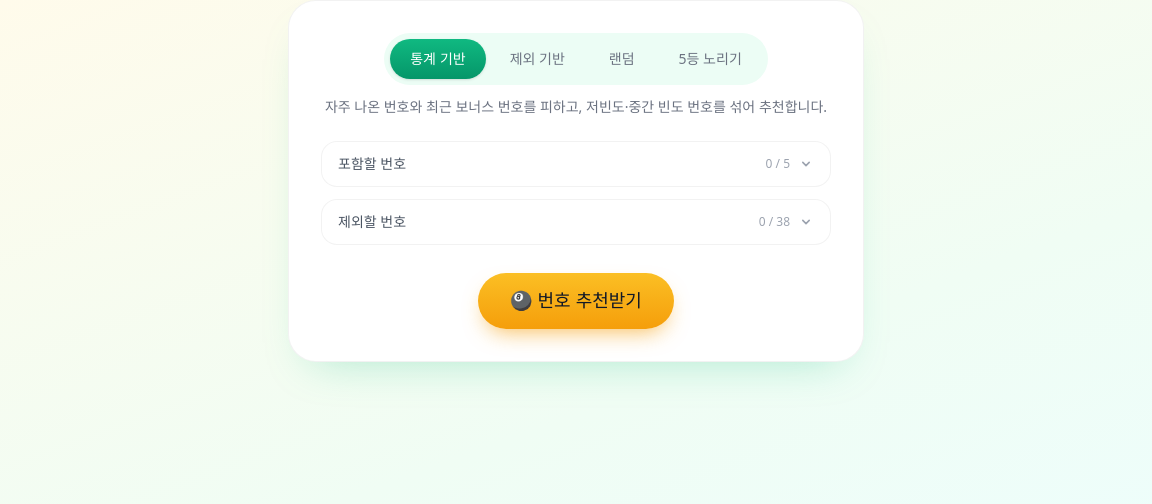
Test: RecommenderClient › 5등 노리기 (target5) › caps the exclude picker at 15 in target5 mode
Click the button "5등 노리기" at coordinates (710, 59), box left=659, top=39, right=762, bottom=79
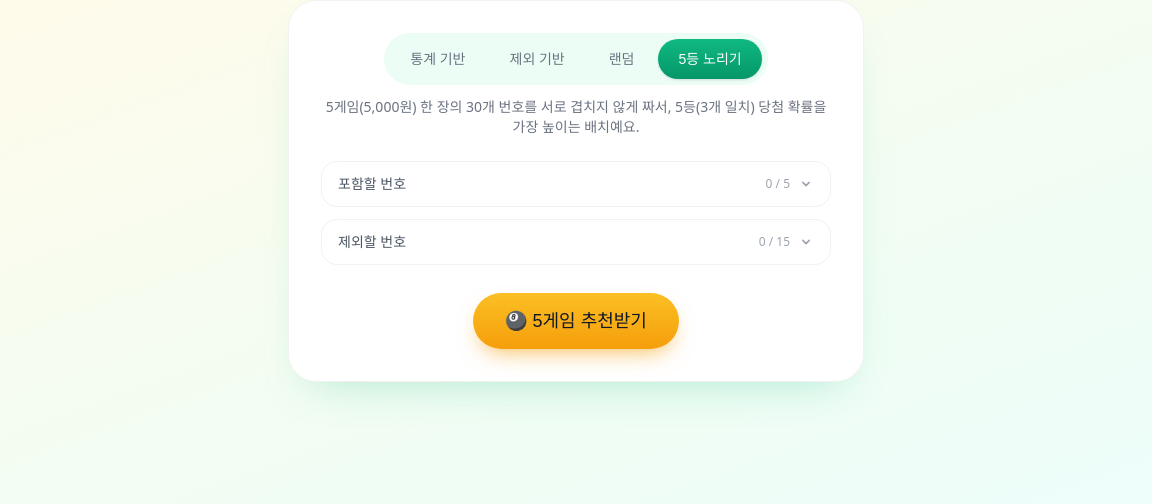
Check: the text "0 / 15" is shown, box left=759, top=234, right=814, bottom=250
